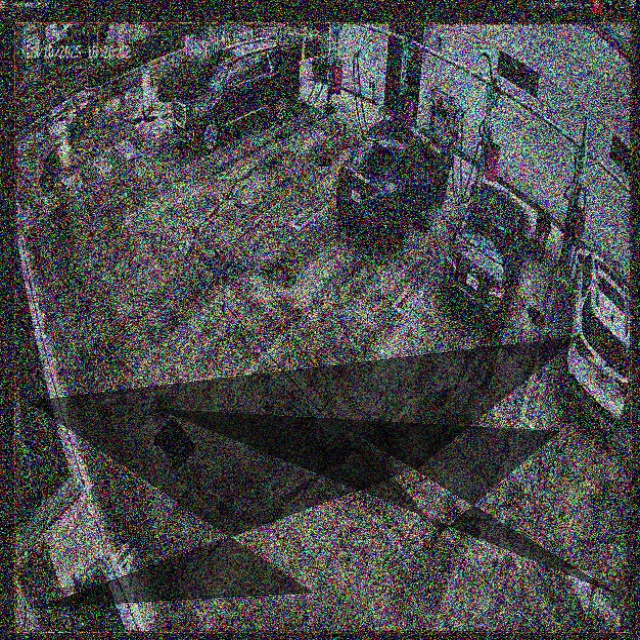Car: (338, 119, 450, 251), (446, 185, 529, 331)
